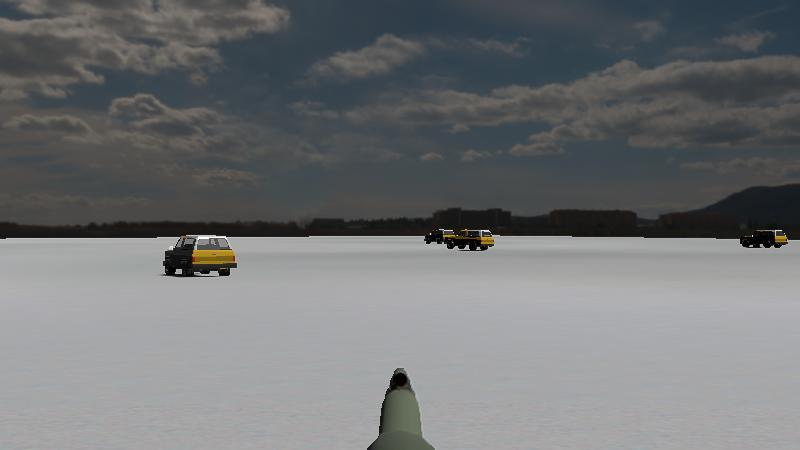car: (157, 229, 243, 284), (737, 225, 791, 252), (443, 228, 496, 253), (421, 225, 458, 247)
